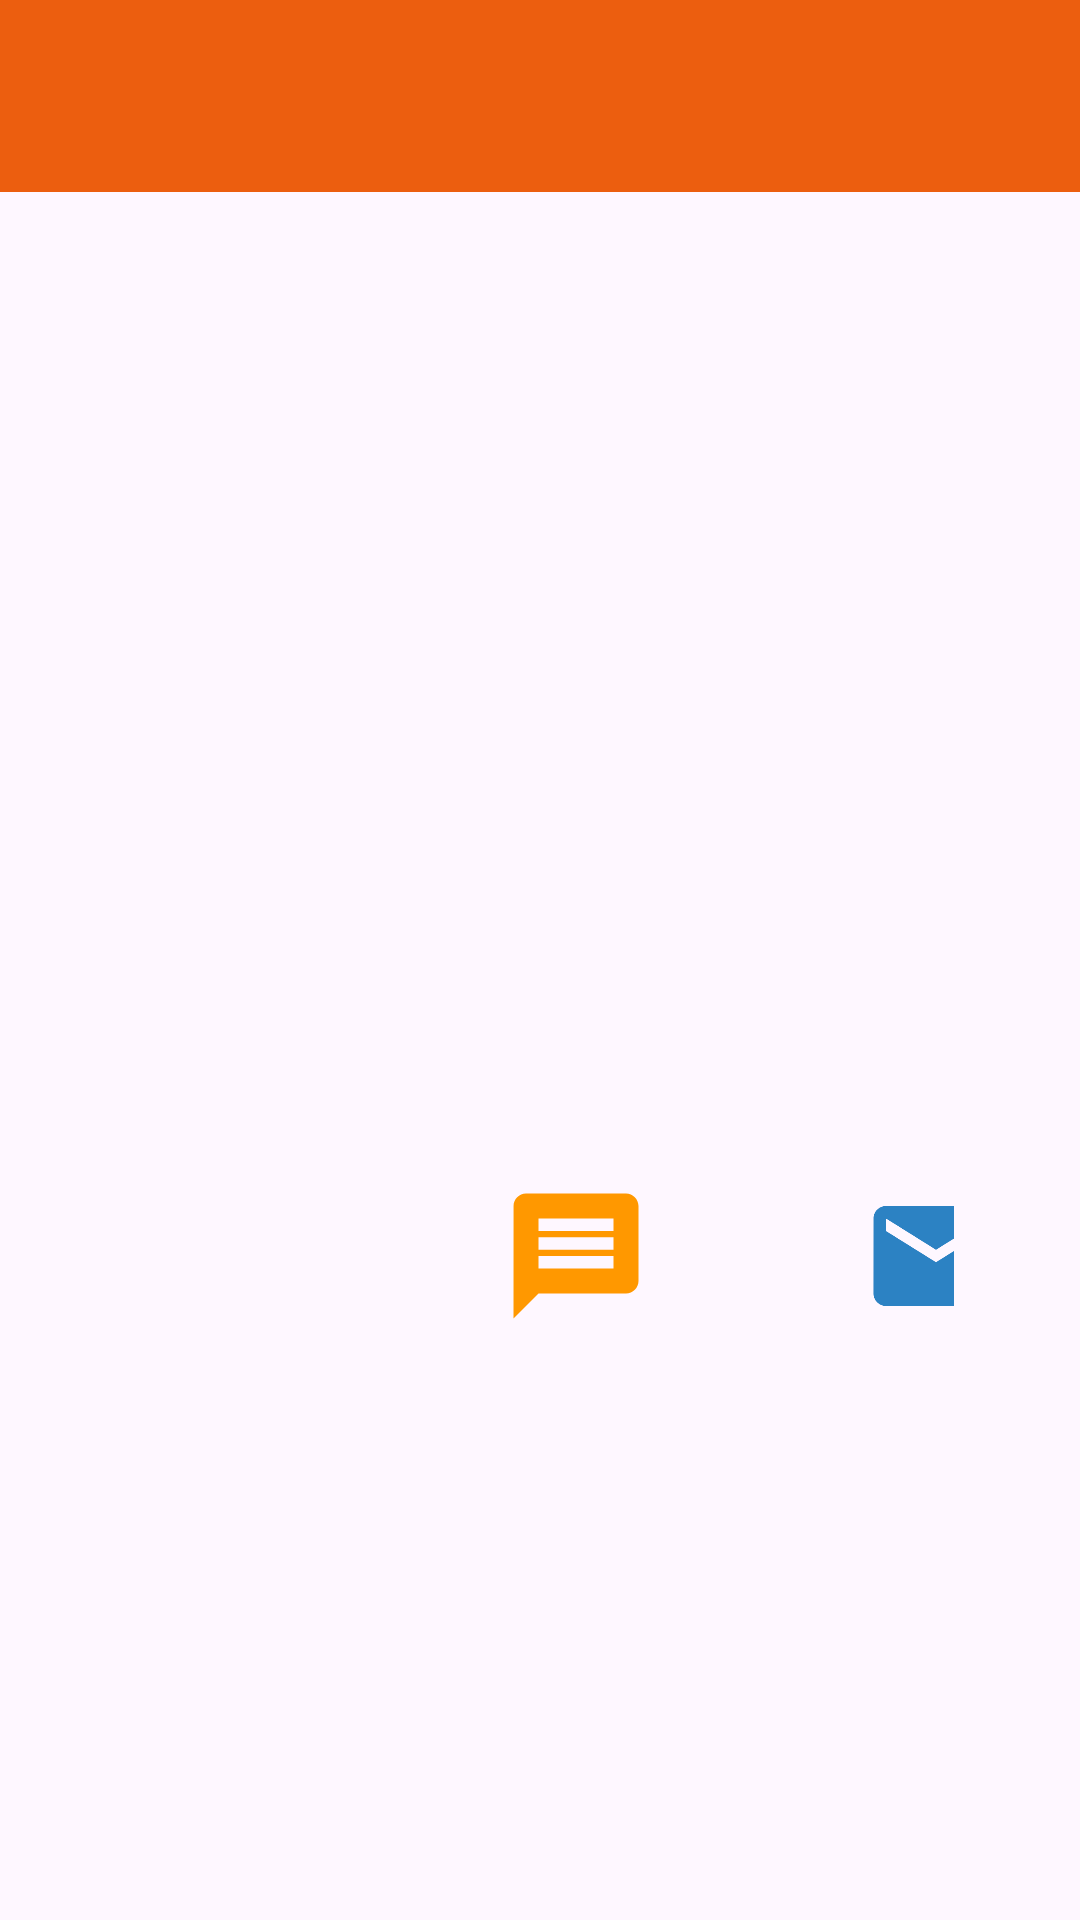

Screen size 1080px x 1920px. Icon name, then its center in pixels as (x,y):
message: (576,1256)
